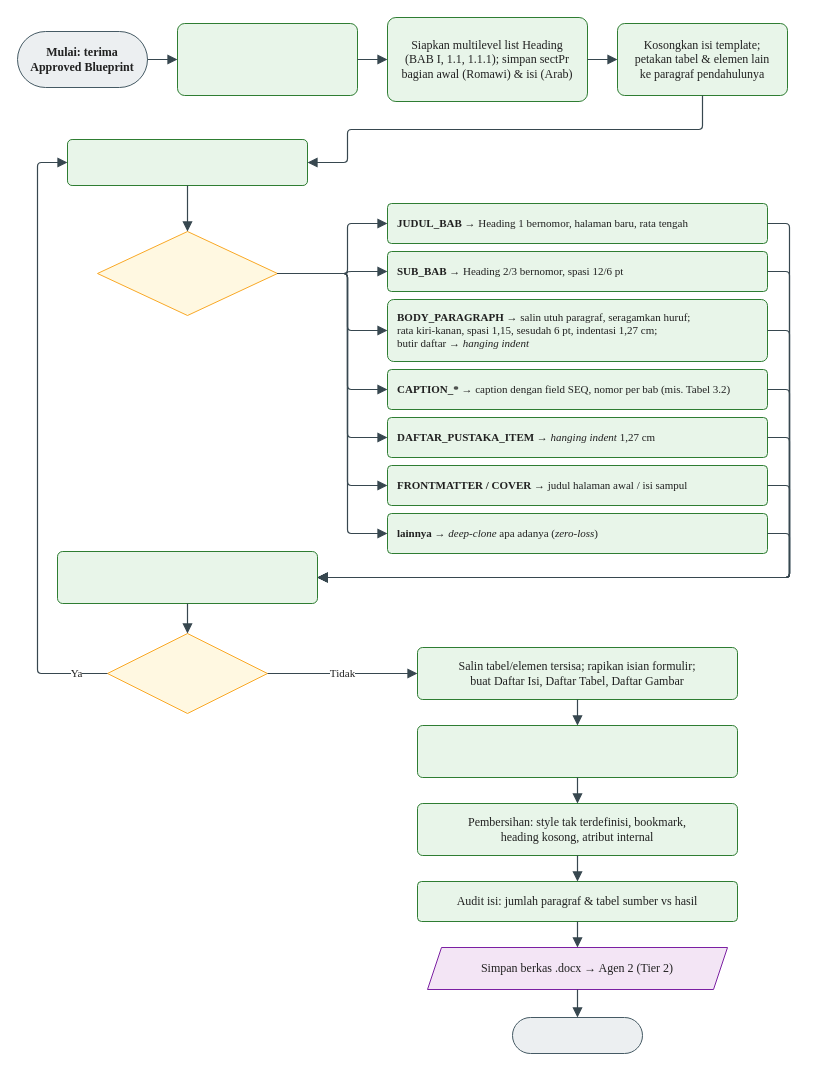
Image size: 817x1071. Some labels were removed from this diagram. The shapes that lost their labels are listed below. From the top down, each one's centre as x and y in pixels, then its label:
At (267,59): "Buka naskah sumber & salinan template_clean_ueu.docx".
At (187,162): "Ambil paragraf berikutnya dari blueprint".
At (187,273): "approved_label?".
At (187,577): "Pasang ulang bookmark; sisipkan tabel (format APA 7) & elemen lain".
At (187,673): "Masih ada paragraf?".
At (577,751): "Pasang section: Romawi sebelum Bab I, Arab di isi; sembunyikan header sampul".
At (577,1035): "Selesai".
